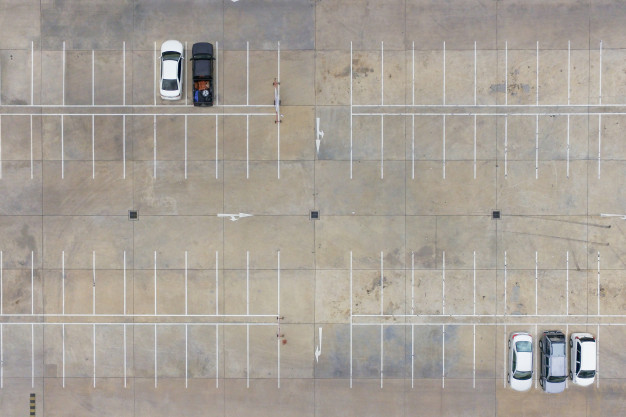car: (537, 328, 568, 394), (188, 41, 217, 111), (157, 37, 186, 103), (506, 330, 535, 393), (569, 331, 600, 389)
